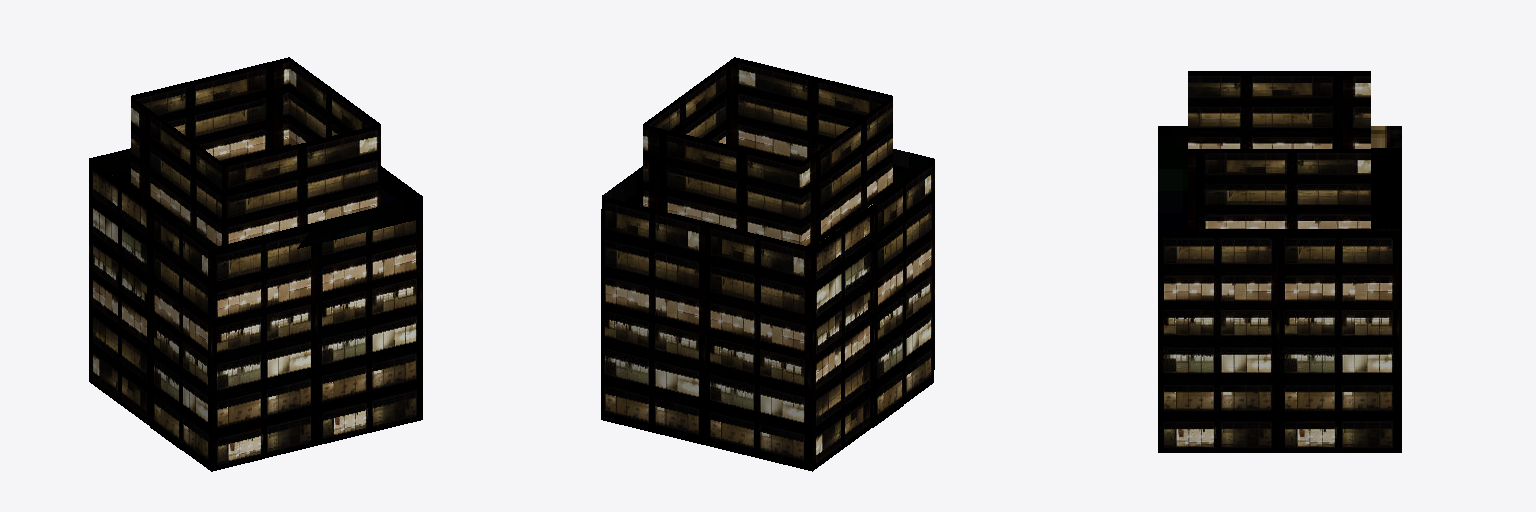
The picture shows the model from 3 angles: view 1: azimuth 30°, elevation 25°; view 2: azimuth 150°, elevation 25°; view 3: azimuth 270°, elevation 25°; orthographic projection.
Visible parts, largest first — view 1: Cube.004; view 2: Cube.004; view 3: Cube.004.
Part boxes in pixels (bbox=[...]): Cube.004: bbox=[89, 57, 422, 471]; Cube.004: bbox=[601, 57, 934, 471]; Cube.004: bbox=[1158, 71, 1401, 452].
Size of the model in its own units: 1 by 1.32 by 1.
Materials: 1 (1 with a texture image).